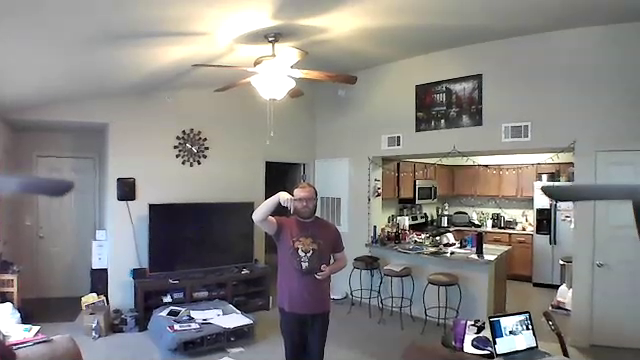down: (275, 185, 296, 217)
